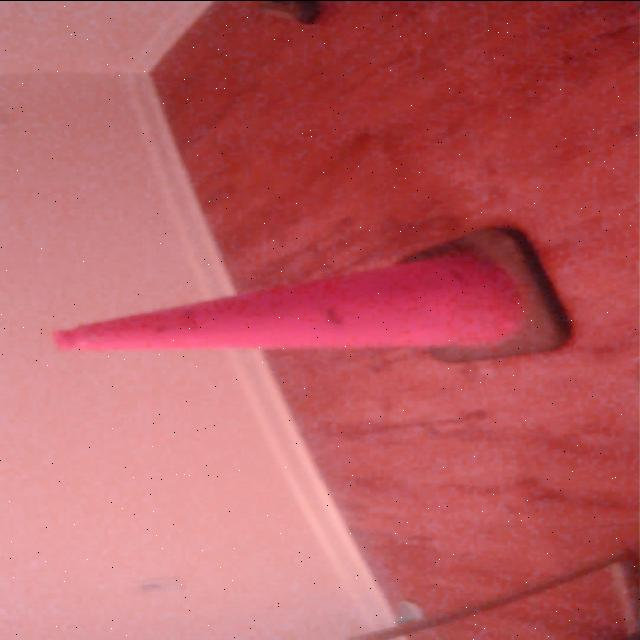traffic cone: (52, 225, 577, 369)
